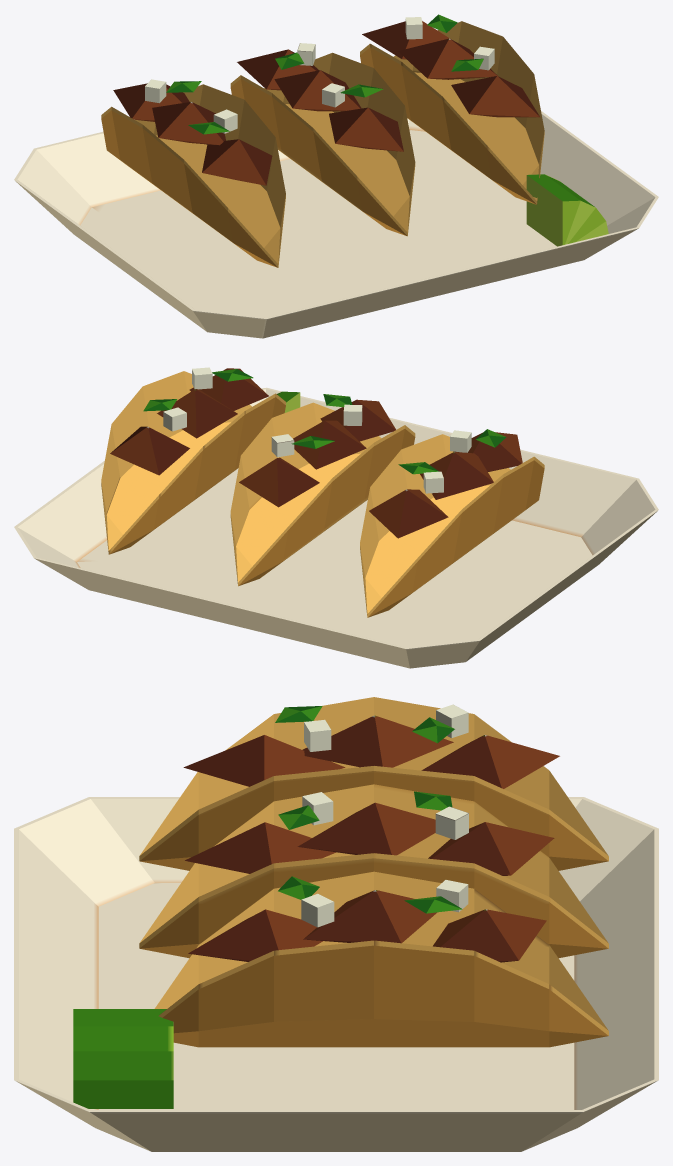
File: Tacos.fbx
The picture shows the model from 3 angles, top to bottom: view 1: azimuth 30°, elevation 25°; view 2: azimuth 150°, elevation 25°; view 3: azimuth 270°, elevation 25°; orthographic projection. The views are drawn at different scales.
Visible parts, largest first — view 1: Tacos_Body; view 2: Tacos_Body; view 3: Tacos_Body.
Part boxes in pixels (x1,y1,x2,y2): Tacos_Body: (14,14,658,338); Tacos_Body: (14,367,658,668); Tacos_Body: (14,697,658,1151).
Size of what is drawn, in the model's own units: 0.238 by 0.076 by 0.206.
1 material, 1 textured.
